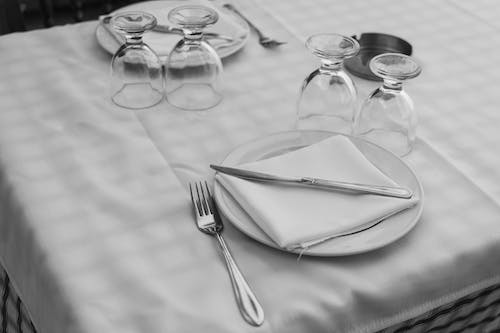knife: (209, 163, 413, 199), (102, 14, 243, 43)
